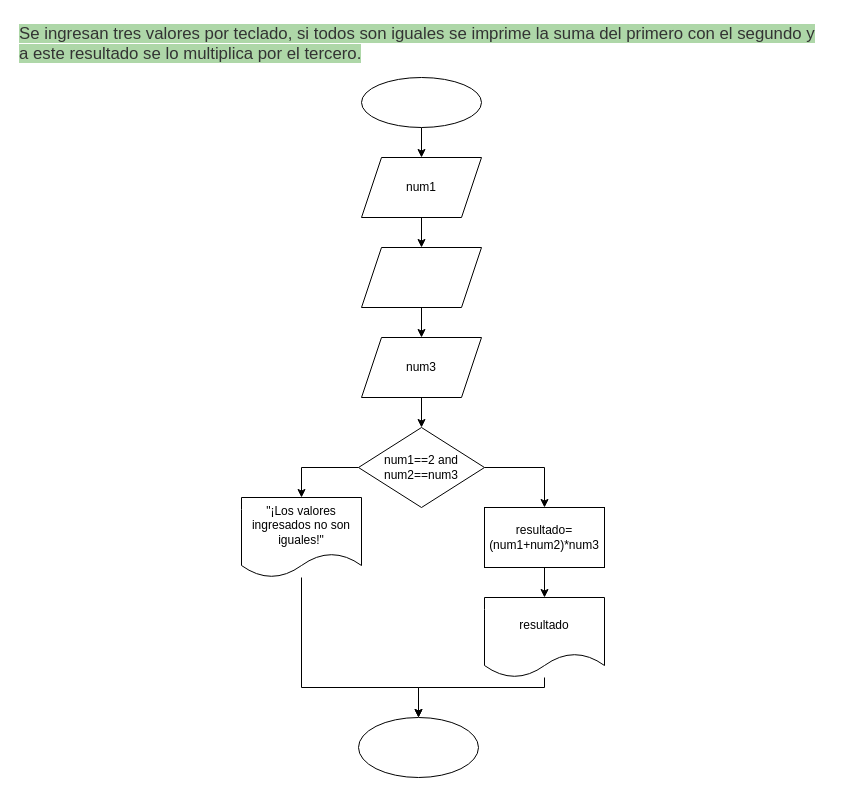
Image size: 844x795. Some labels were removed from this diagram. The shapes that lost their labels are listed below. From the top down, each one's box as (x1, y1, x2, y2) in pixels, then its label:
(360, 76, 482, 128): inicio
(360, 246, 482, 308): num2
(358, 716, 478, 778): fin
